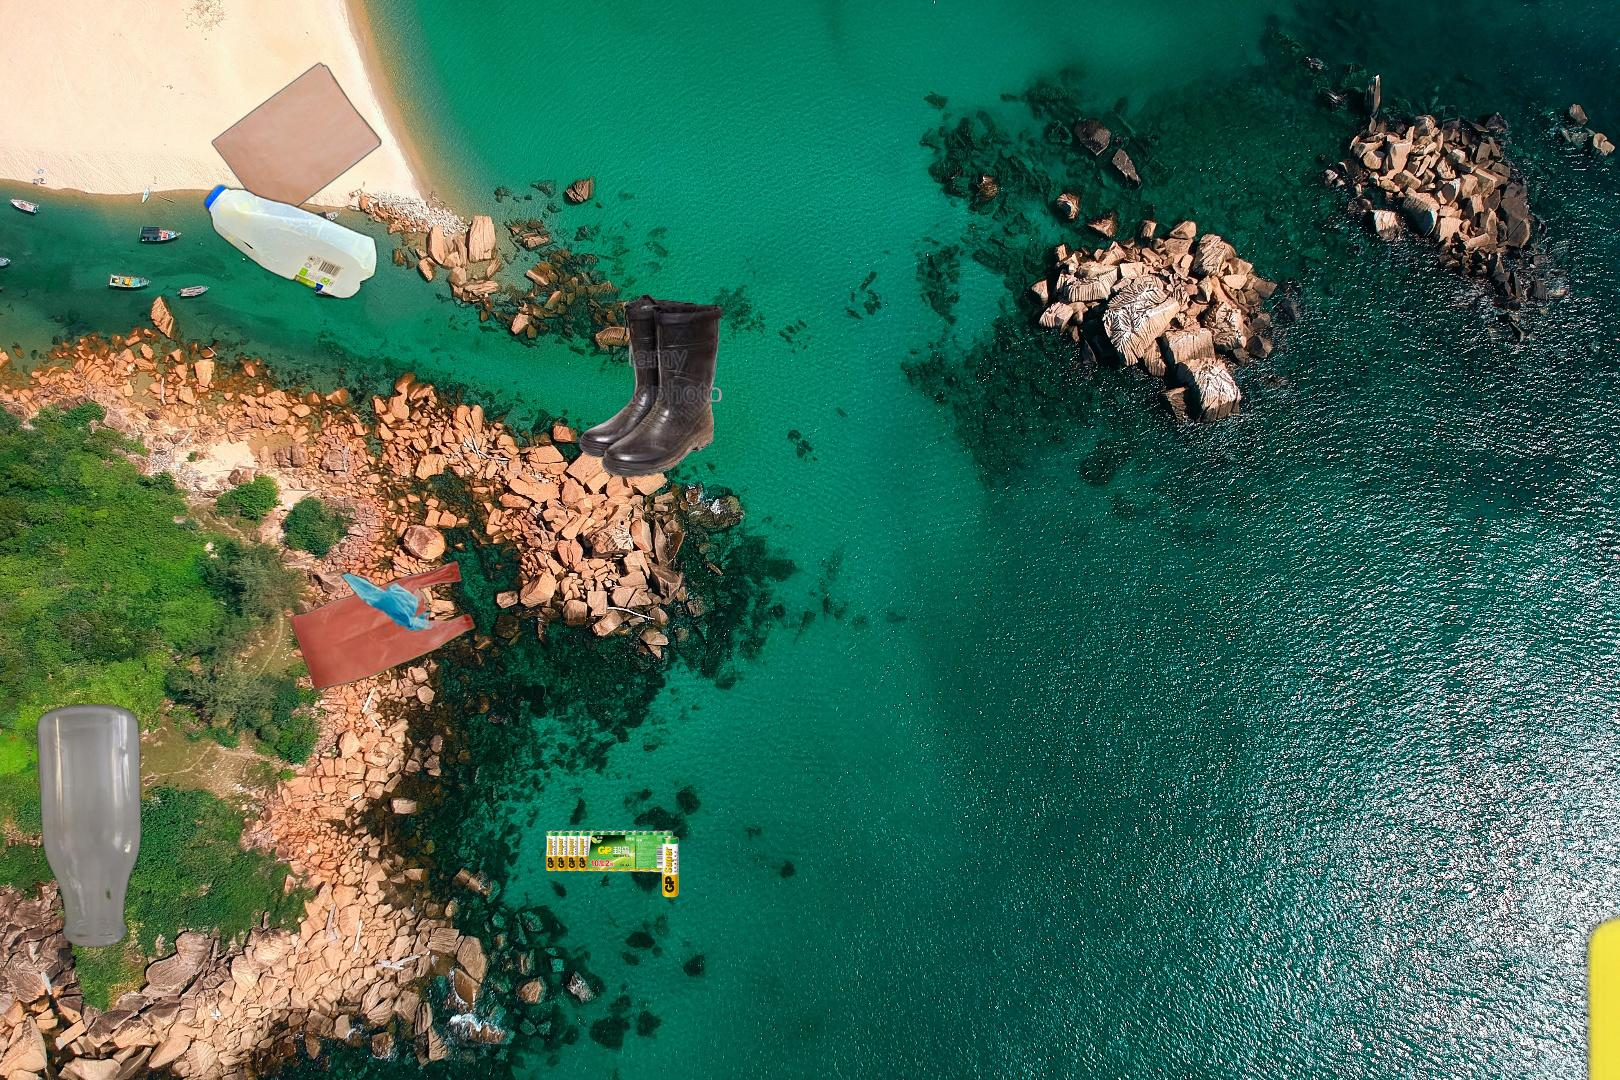battery: (542, 827, 682, 900)
glass: (33, 702, 146, 951)
paper-bag: (210, 60, 385, 228)
penholder: (1568, 504, 1620, 1080)
plastic-bag: (284, 558, 477, 693)
plastic-bottles: (199, 178, 382, 305)
shoes: (576, 290, 724, 480)
